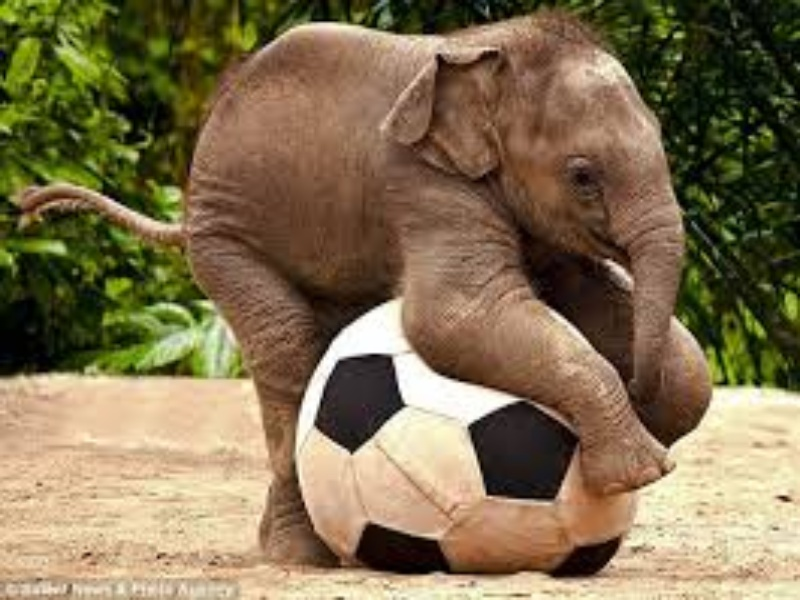elephant: (37, 8, 694, 532)
